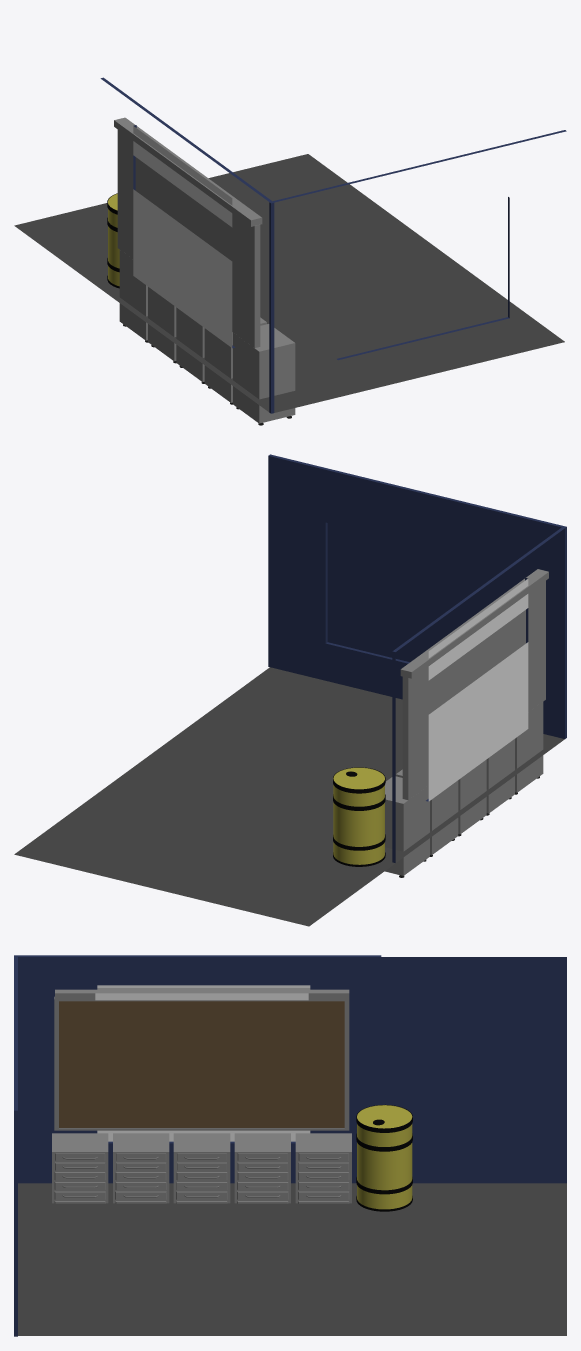
Rendered from Menu 1.fbx.
3 renders of one model, top to bottom at view 1: azimuth 30°, elevation 25°; view 2: azimuth 150°, elevation 25°; view 3: azimuth 270°, elevation 25°, orthographic. The views are drawn at different scales.
Visible parts, largest first — view 1: Paredes Mapa.004, Plane.003, caixaferramentas.004, Paredes Mapa.005, caixaferramentas.008, caixaferramentas.005, caixaferramentas.007, caixaferramentas.006, barril toxico.023; view 2: Paredes Mapa.004, Plane.003, barril toxico.023, caixaferramentas.008, Paredes Mapa.005, caixaferramentas.004, caixaferramentas.007, caixaferramentas.006, caixaferramentas.005; view 3: Paredes Mapa.004, Plane.003, barril toxico.023, caixaferramentas.006, caixaferramentas.004, caixaferramentas.005, caixaferramentas.007, caixaferramentas.008, Paredes Mapa.005.
Part boxes in pixels (x1,y1,x2,y2): Paredes Mapa.004: (14,77,566,413); Plane.003: (117,130,260,348); caixaferramentas.004: (233,324,295,425); Paredes Mapa.005: (114,117,262,226); caixaferramentas.008: (119,250,147,342); caixaferramentas.005: (204,317,266,404); caixaferramentas.007: (148,287,176,363); caixaferramentas.006: (176,307,204,383); barril toxico.023: (107,193,119,288); Paredes Mapa.004: (14,454,566,926); Plane.003: (402,581,545,800); barril toxico.023: (333,767,385,866); caixaferramentas.008: (385,776,429,877); Paredes Mapa.005: (400,569,548,678); caixaferramentas.004: (515,702,543,794); caixaferramentas.007: (395,769,458,856); caixaferramentas.006: (458,759,486,836); caixaferramentas.005: (486,739,514,815); Paredes Mapa.004: (14,955,566,1336); Plane.003: (54,996,349,1130); barril toxico.023: (356,1104,412,1211); caixaferramentas.006: (173,1133,230,1203); caixaferramentas.004: (52,1133,108,1203); caixaferramentas.005: (113,1133,169,1203); caixaferramentas.007: (234,1133,290,1203); caixaferramentas.008: (295,1133,351,1203); Paredes Mapa.005: (55,988,349,1000).
Bounding box in the file's own units: 914 × 695 × 1362.
